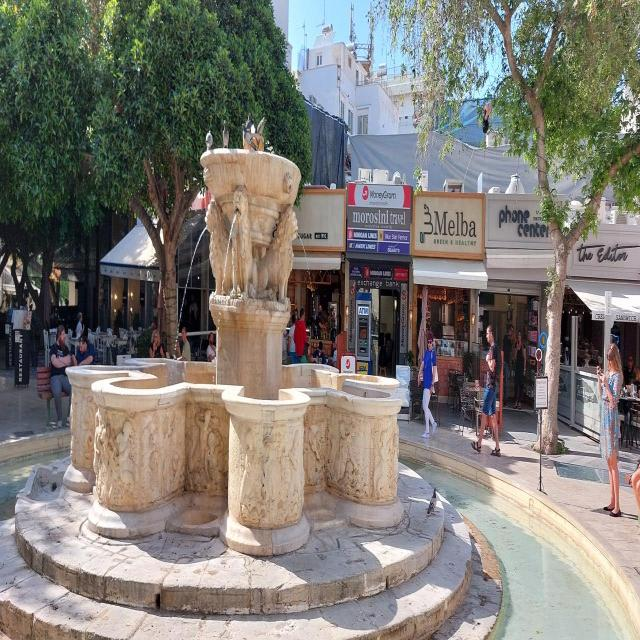Liontaria: (65, 143, 405, 557)
